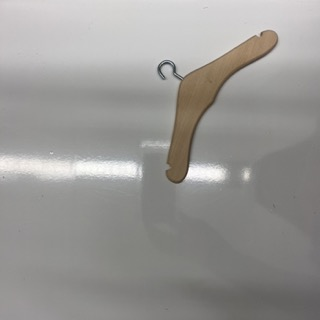rack: (155, 29, 278, 185)
